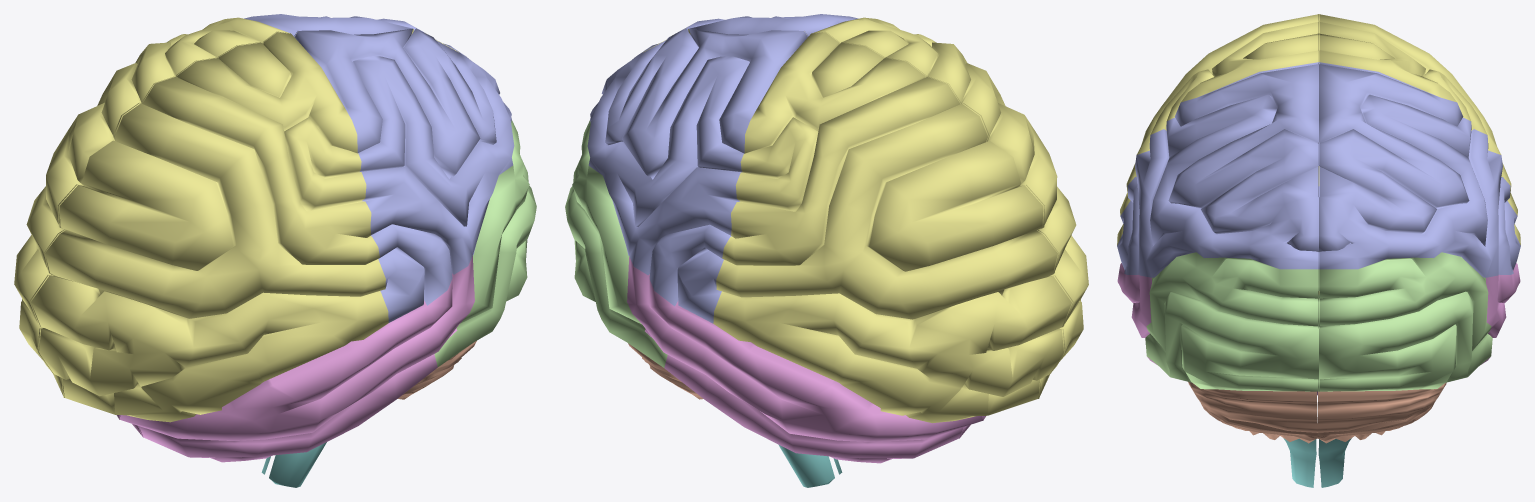
Rendered from brain2.gltf.
3 renders of one model, left to right at view 1: azimuth 30°, elevation 25°; view 2: azimuth 150°, elevation 25°; view 3: azimuth 270°, elevation 25°, orthographic. The views are drawn at different scales.
Parts seen in each view (by area): view 1: occipital, occipital.001, occipital.003, occipital.002; view 2: occipital.001, occipital, occipital.004; view 3: occipital, occipital.001, occipital.002, occipital.005, occipital.003, occipital.004.
Part boxes in pixels (bbox=[...]): occipital: bbox=[29, 28, 536, 462]; occipital.001: bbox=[14, 14, 468, 437]; occipital.003: bbox=[269, 442, 326, 487]; occipital.002: bbox=[398, 341, 476, 399]; occipital.001: bbox=[565, 28, 1073, 463]; occipital: bbox=[632, 14, 1088, 438]; occipital.004: bbox=[778, 444, 834, 487]; occipital: bbox=[1117, 14, 1319, 395]; occipital.001: bbox=[1318, 14, 1520, 391]; occipital.002: bbox=[1188, 382, 1317, 443]; occipital.005: bbox=[1317, 382, 1446, 443]; occipital.003: bbox=[1283, 438, 1316, 487]; occipital.004: bbox=[1318, 438, 1351, 487].
Size of the model in its own units: 7.59 by 6.84 by 5.82.
